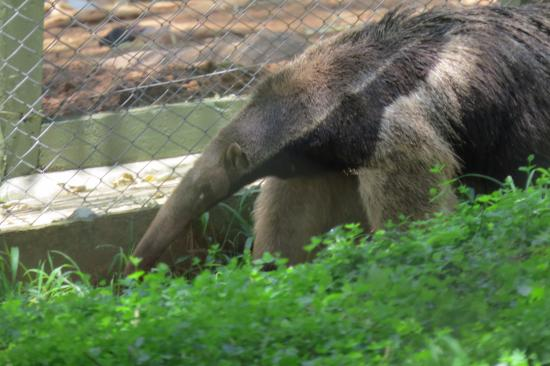TamanduaBandeira: (114, 10, 544, 280)
